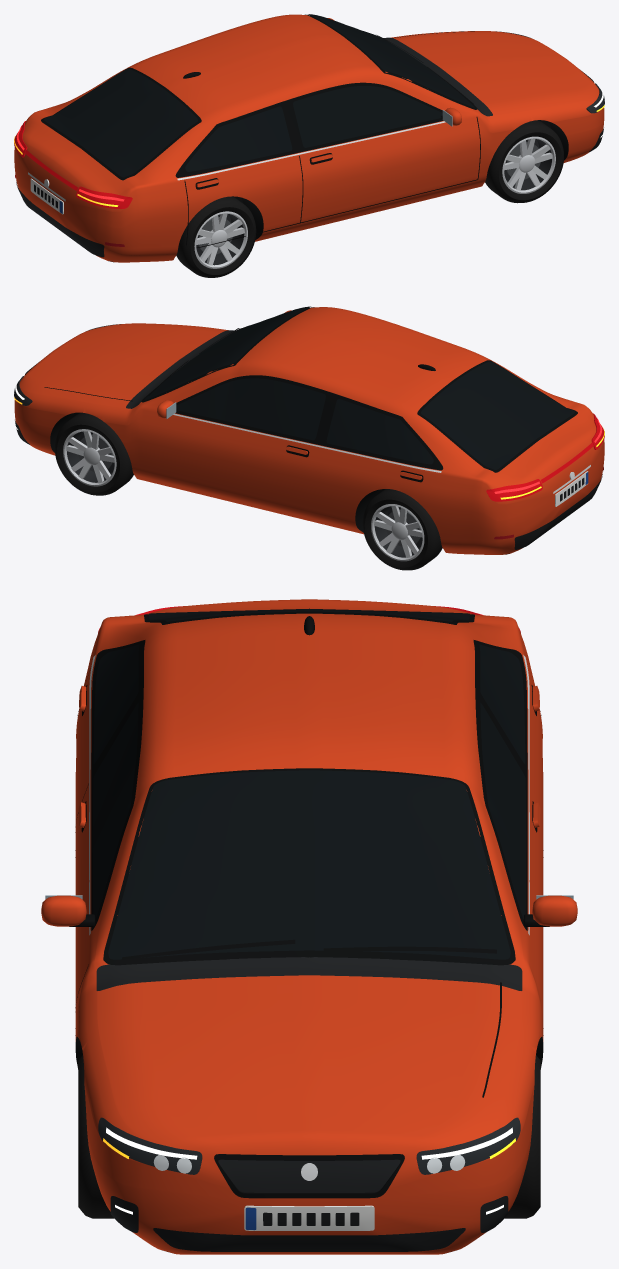
Rendered from auto.glb.
3 renders of one model, top to bottom at view 1: azimuth 30°, elevation 25°; view 2: azimuth 150°, elevation 25°; view 3: azimuth 270°, elevation 25°, orthographic. The views are drawn at different scales.
Visible parts, largest first — view 1: auto, koleso, koleso.002; view 2: auto, koleso.003, koleso.001; view 3: auto, koleso, koleso.001.
Part boxes in pixels (x1,y1,x2,y2): auto: (14, 14, 604, 262); koleso: (485, 120, 563, 203); koleso.002: (176, 196, 256, 277); auto: (14, 306, 604, 554); koleso.003: (362, 489, 442, 570); koleso.001: (55, 412, 133, 495); auto: (41, 599, 577, 1254); koleso: (78, 1055, 114, 1218); koleso.001: (504, 1055, 540, 1218).
Size of the model in its own units: 4.88 by 1.44 by 2.14.
